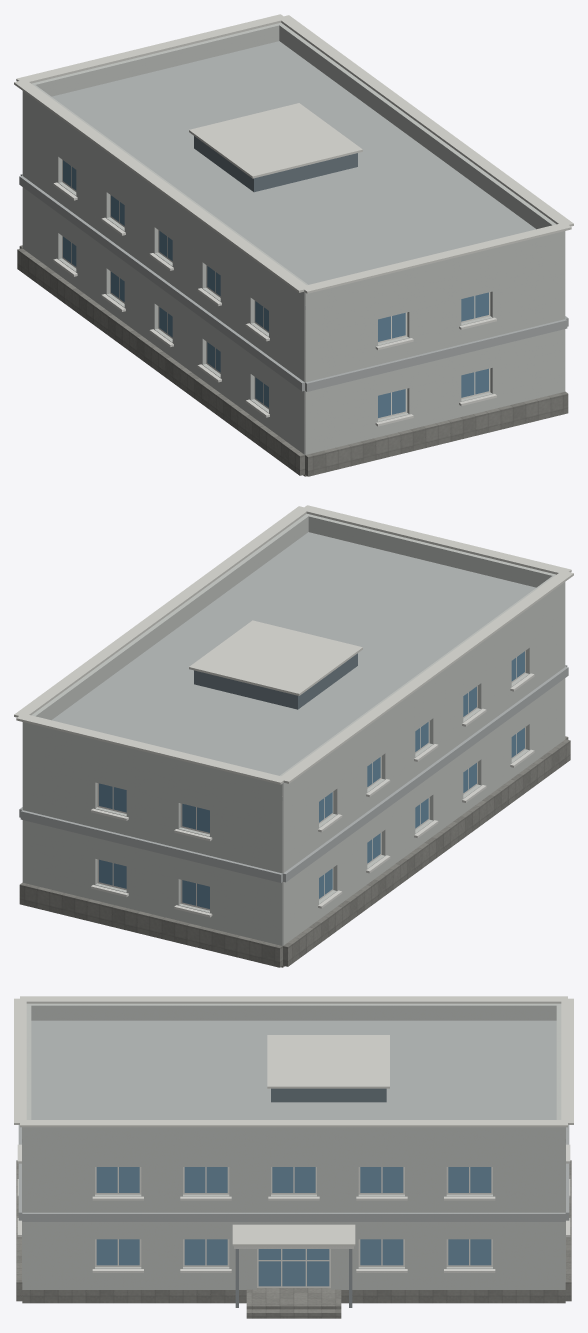
The picture shows the model from 3 angles, top to bottom: view 1: azimuth 30°, elevation 25°; view 2: azimuth 150°, elevation 25°; view 3: azimuth 270°, elevation 25°; orthographic projection. The views are drawn at different scales.
Visible parts, largest first — view 1: wing__wall, wing__roofpale, wing__cap, wing__stone, wing__band, wing__sideglass, wing__darkglass, wing__white, wing__frame; view 2: wing__wall, wing__roofpale, wing__cap, wing__stone, wing__band, wing__sideglass, wing__darkglass, wing__white, wing__frame; view 3: wing__wall, wing__roofpale, wing__cap, wing__glass, wing__stone, wing__band, wing__frame, wing__white, wing__darkglass, wing__stair-east, wing__threshold-east, wing__steel.
Part boxes in pixels (x1=…): wing__wall: x1=22, y1=23, x2=565, y2=454; wing__roofpale: x1=52, y1=41, x2=535, y2=309; wing__cap: x1=14, y1=14, x2=573, y2=293; wing__stone: x1=17, y1=245, x2=568, y2=476; wing__band: x1=19, y1=174, x2=568, y2=391; wing__sideglass: x1=63, y1=160, x2=488, y2=417; wing__darkglass: x1=194, y1=136, x2=357, y2=192; wing__white: x1=53, y1=182, x2=496, y2=426; wing__frame: x1=62, y1=160, x2=490, y2=419; wing__wall: x1=22, y1=514, x2=565, y2=945; wing__roofpale: x1=52, y1=532, x2=535, y2=800; wing__cap: x1=14, y1=505, x2=573, y2=784; wing__stone: x1=19, y1=736, x2=570, y2=967; wing__band: x1=19, y1=665, x2=568, y2=882; wing__sideglass: x1=99, y1=651, x2=524, y2=908; wing__darkglass: x1=194, y1=653, x2=357, y2=709; wing__white: x1=91, y1=673, x2=534, y2=917; wing__frame: x1=97, y1=651, x2=525, y2=910; wing__wall: x1=22, y1=1003, x2=565, y2=1289; wing__roofpale: x1=22, y1=1020, x2=565, y2=1142; wing__cap: x1=14, y1=996, x2=573, y2=1246; wing__glass: x1=96, y1=1167, x2=491, y2=1286; wing__stone: x1=16, y1=1160, x2=571, y2=1303; wing__band: x1=18, y1=1125, x2=569, y2=1221; wing__frame: x1=95, y1=1167, x2=492, y2=1287; wing__white: x1=17, y1=1144, x2=570, y2=1272; wing__darkglass: x1=271, y1=1088, x2=386, y2=1102; wing__stair-east: x1=246, y1=1302, x2=341, y2=1318; wing__threshold-east: x1=246, y1=1288, x2=341, y2=1302; wing__steel: x1=235, y1=1249, x2=352, y2=1307.
Size of the model in its own units: 14.95 by 8.66 by 24.21.
11 materials, 4 textured.
